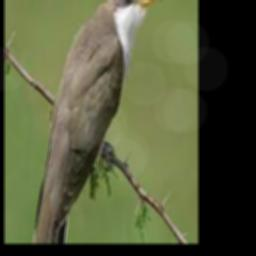Cuckoo: (31, 0, 161, 243)
